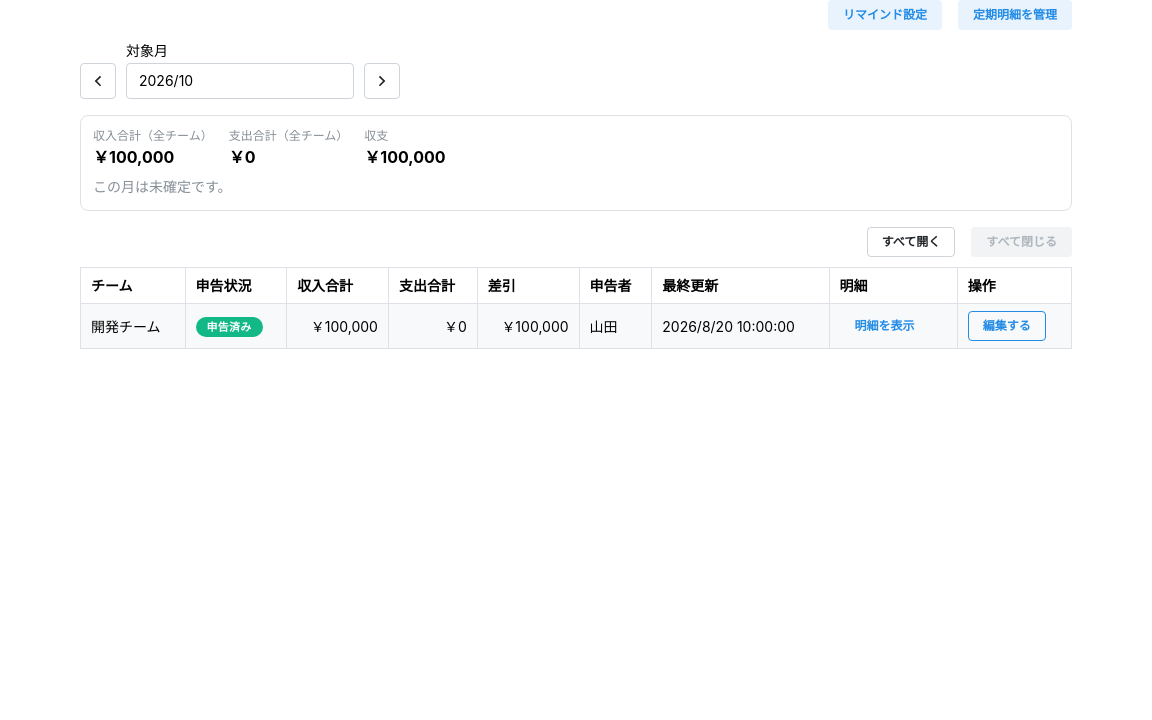
Test: BudgetDeclarationList › canManageReminderSettings が true のときは「定期明細を管理」と同じ行にリマインド設定ボタンを表示し、設定は常時展開しない
Expected: the field labelled "15日の文面" is not shown
Click the button "リマインド設定". click: (885, 15)
box: [828,0,942,30]
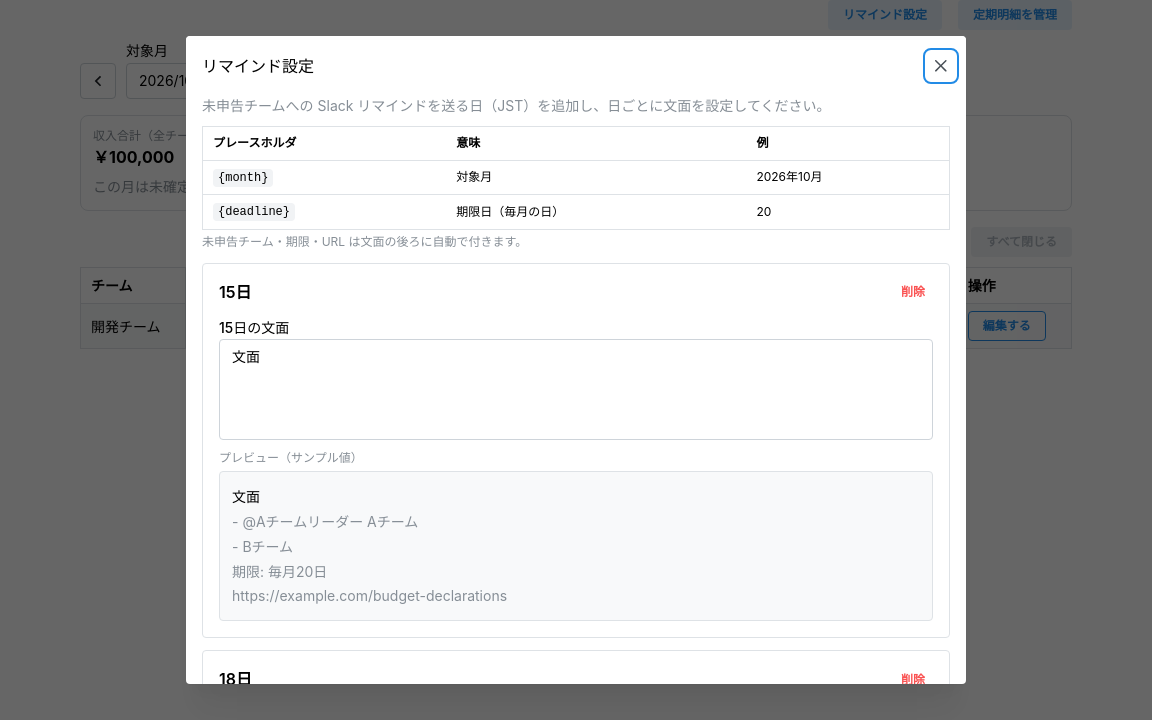
Now the text box labelled "15日の文面" is shown, box [219,340,933,440]
